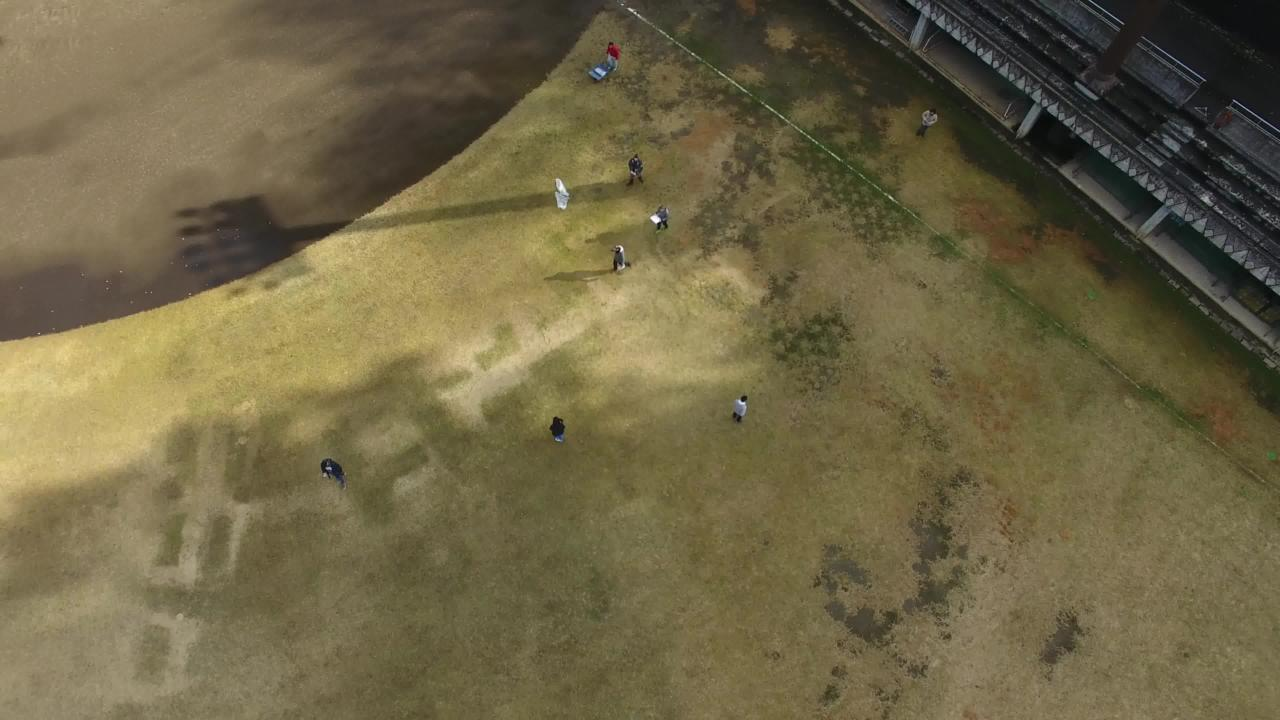person: (307, 447, 340, 495), (545, 407, 578, 455), (615, 141, 648, 189), (592, 35, 625, 83), (904, 88, 937, 136), (648, 195, 681, 243), (609, 235, 642, 283), (724, 381, 757, 429)
